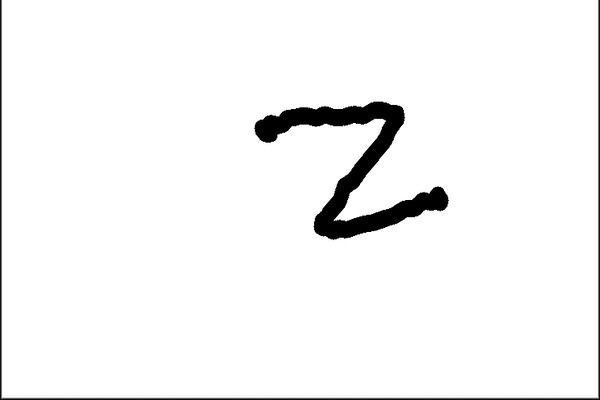Z: (247, 83, 461, 247)
